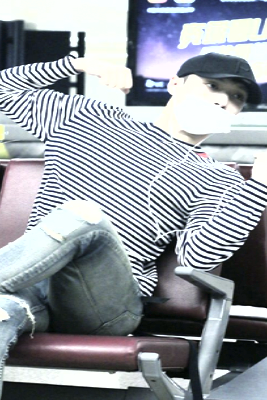mask_weared_incorrect: (177, 77, 246, 133)
